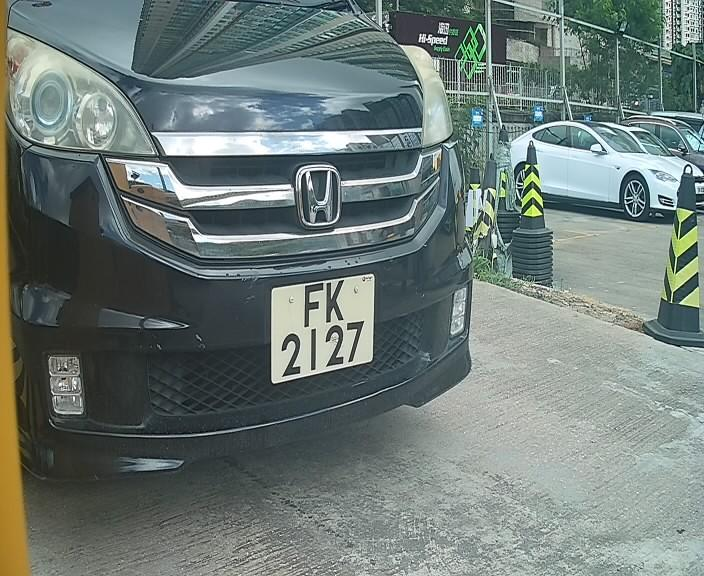License Plate: (258, 263, 384, 389)
